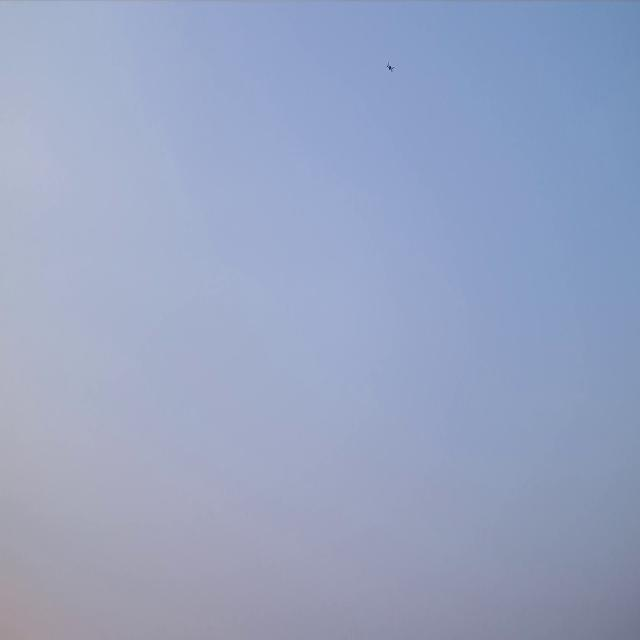UAV: (386, 62, 394, 72)
